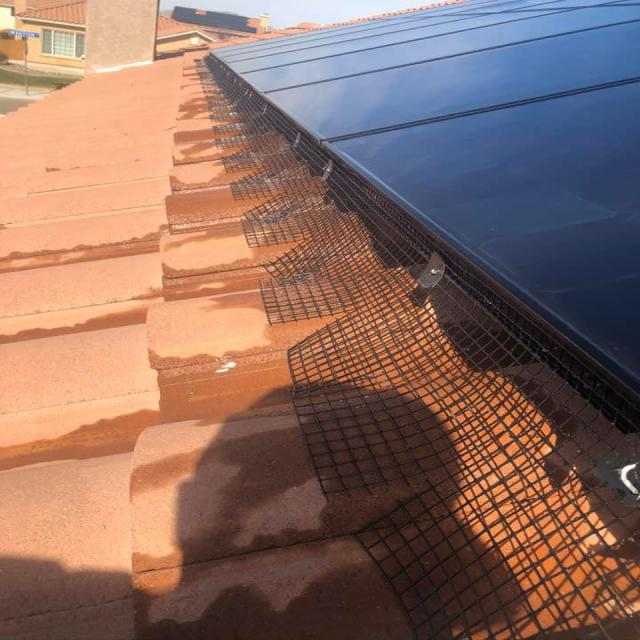clean-solar-panel: (214, 0, 638, 396)
